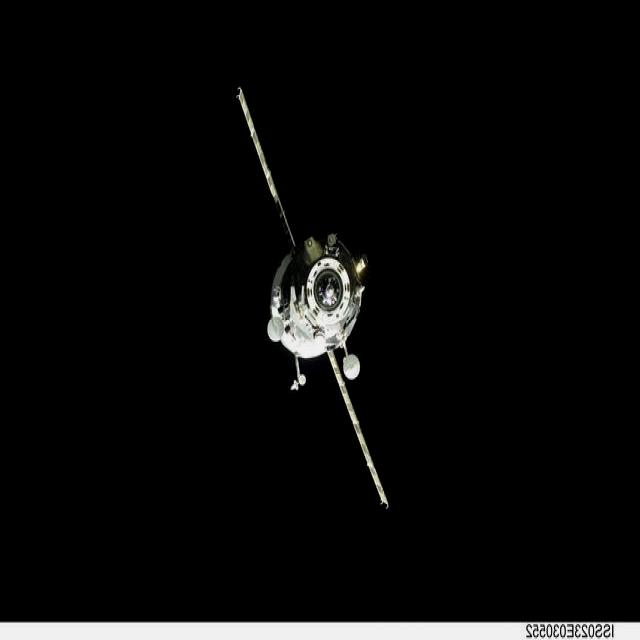medium_debris: (238, 88, 389, 508)
